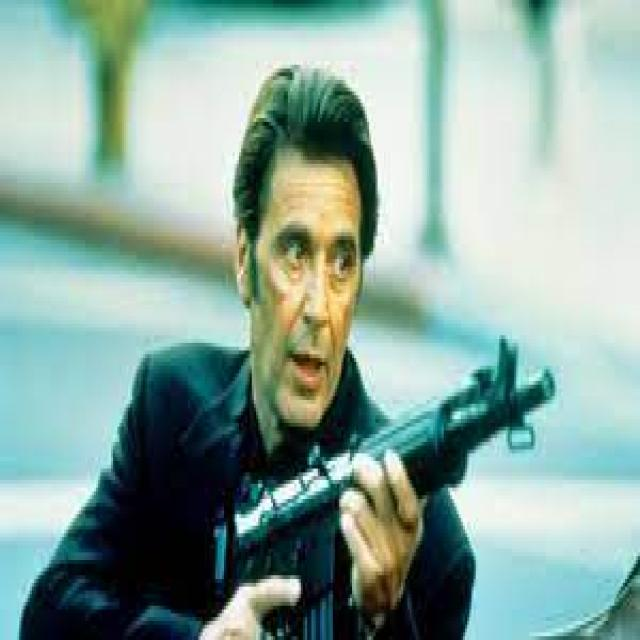weapons: (178, 330, 561, 628)
